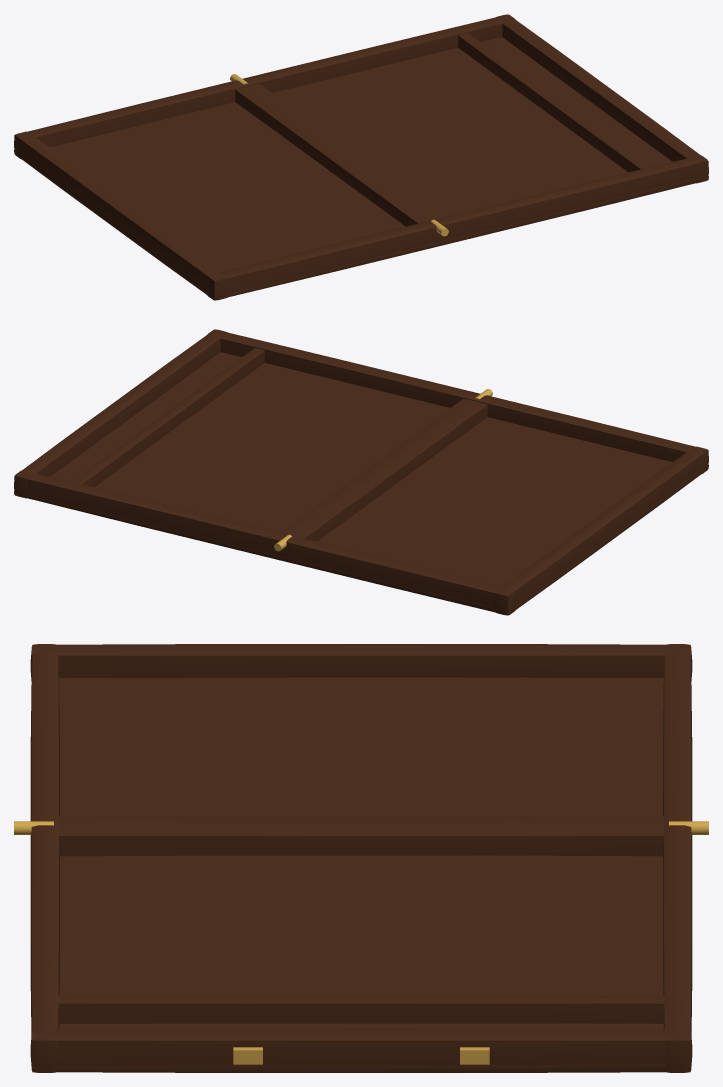
File: tavla.glb
3 views of the same model, one above another, from view 1: azimuth 30°, elevation 25°; view 2: azimuth 150°, elevation 25°; view 3: azimuth 270°, elevation 25° (orthographic). The views are drawn at different scales.
Visible parts, largest first — view 1: tavla_frame; view 2: tavla_frame; view 3: tavla_frame, tavla_brass.
Part boxes in pixels (x1,y1,x2,y2): tavla_frame: (14,14,708,300); tavla_frame: (14,329,708,615); tavla_frame: (30,644,692,1072); tavla_brass: (14,821,708,1064).
Size of the model in its own units: 10.87 by 0.46 by 7.98.
